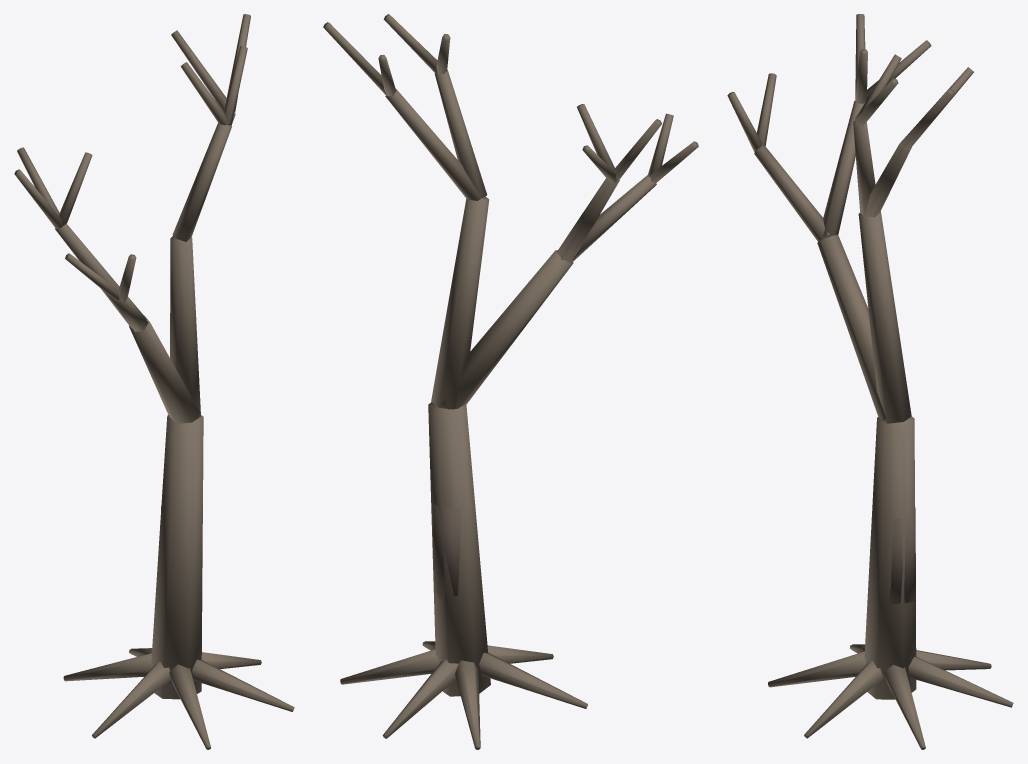
Rendered from v_dead_tree.glb.
The picture shows the model from 3 angles, left to right: view 1: azimuth 30°, elevation 25°; view 2: azimuth 150°, elevation 25°; view 3: azimuth 270°, elevation 25°; orthographic projection. The views are drawn at different scales.
Parts seen in each view (by area): view 1: Dead_tree; view 2: Dead_tree; view 3: Dead_tree.
Part boxes in pixels (x1=…): Dead_tree: x1=14, y1=14, x2=294, y2=749; Dead_tree: x1=323, y1=14, x2=698, y2=749; Dead_tree: x1=727, y1=14, x2=1013, y2=749.
Size of what is drawn, in the model's own units: 3.47 by 7.62 by 2.99.
